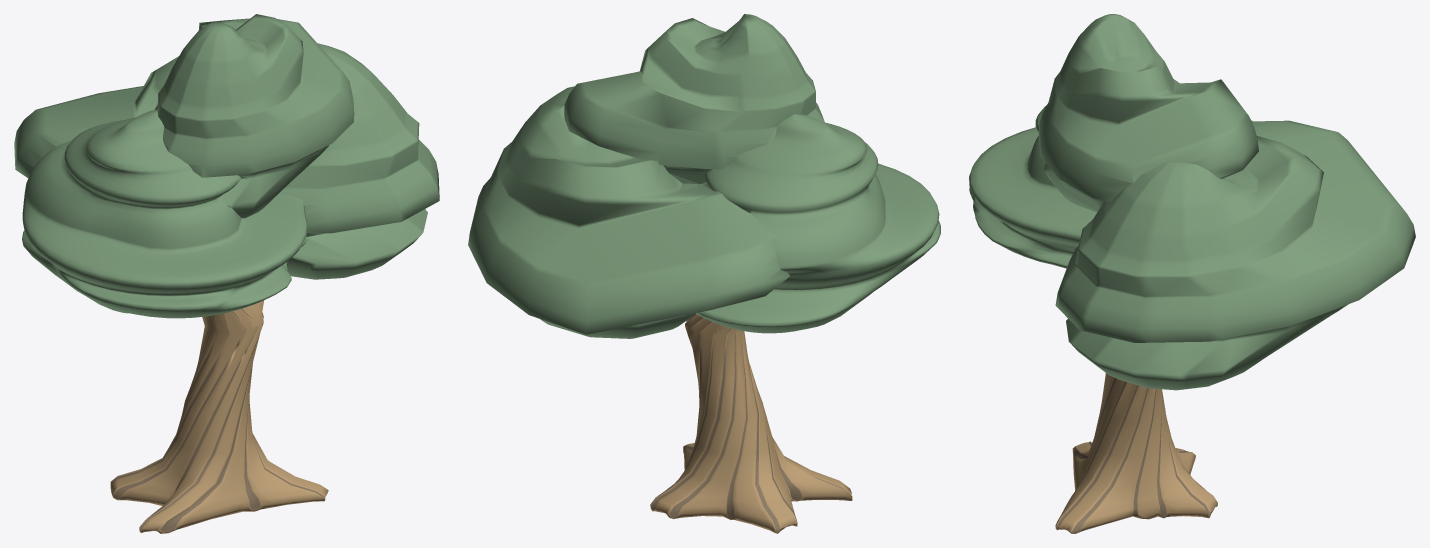
File: Tree2.fbx
3 renders of one model, left to right at view 1: azimuth 30°, elevation 25°; view 2: azimuth 150°, elevation 25°; view 3: azimuth 270°, elevation 25°, orthographic.
Visible parts, largest first — view 1: pSphere18, pCylinder106; view 2: pSphere18, pCylinder106; view 3: pSphere18, pCylinder106.
Part boxes in pixels (x1,y1,x2,y2): pSphere18: (14, 14, 439, 318); pCylinder106: (110, 300, 328, 533); pSphere18: (468, 14, 940, 338); pCylinder106: (650, 314, 852, 533); pSphere18: (969, 14, 1415, 390); pCylinder106: (1055, 373, 1217, 533).
Size of the model in its own units: 8.58 by 9.69 by 8.2.
